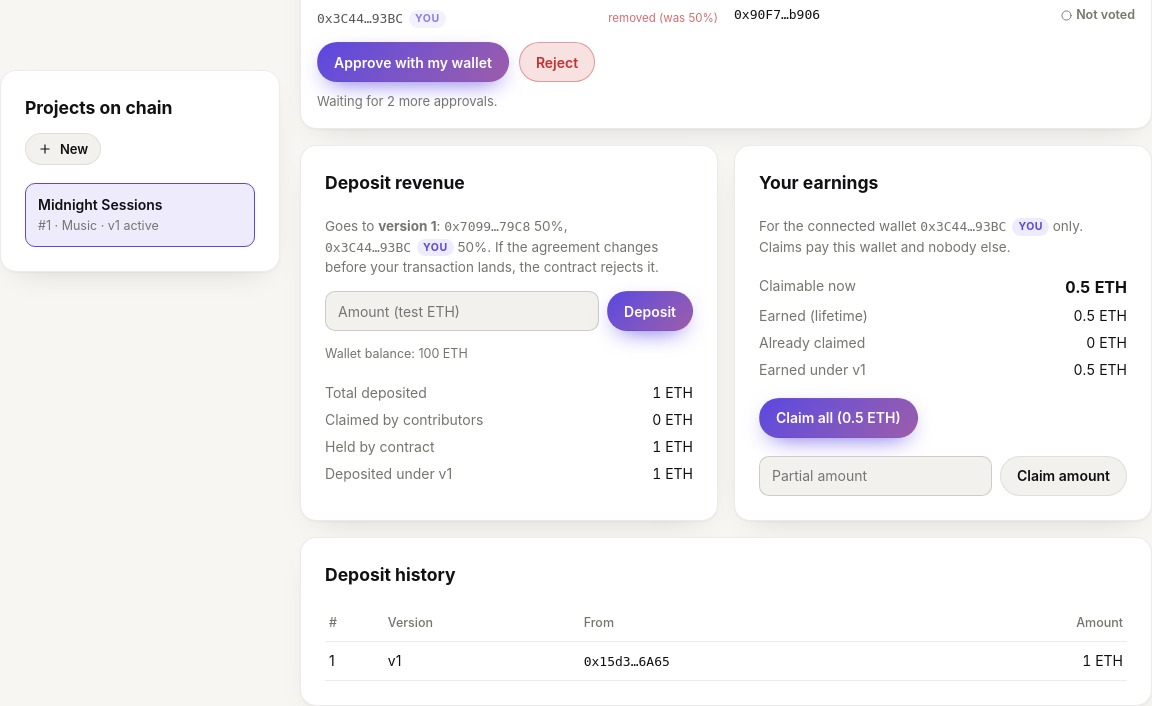
Test: live dashboard: revenue › blocks a partial claim above the claimable balance
This screenshot has width=1152, height=706.
(page scrolled)
Type "0.6" into the field named "partial claim amount" at point(875, 476), box x1=759 y1=456 x2=992 y2=496
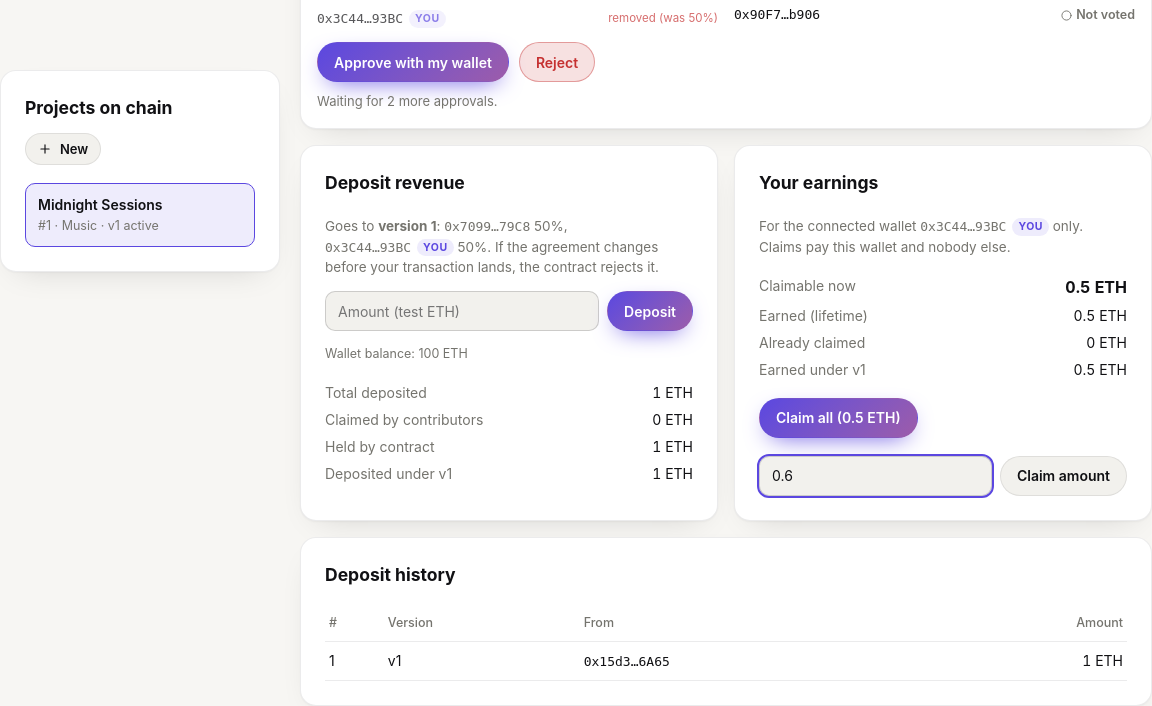
Click the button "Claim amount" at point(1063, 476), box x1=1000 y1=456 x2=1127 y2=496
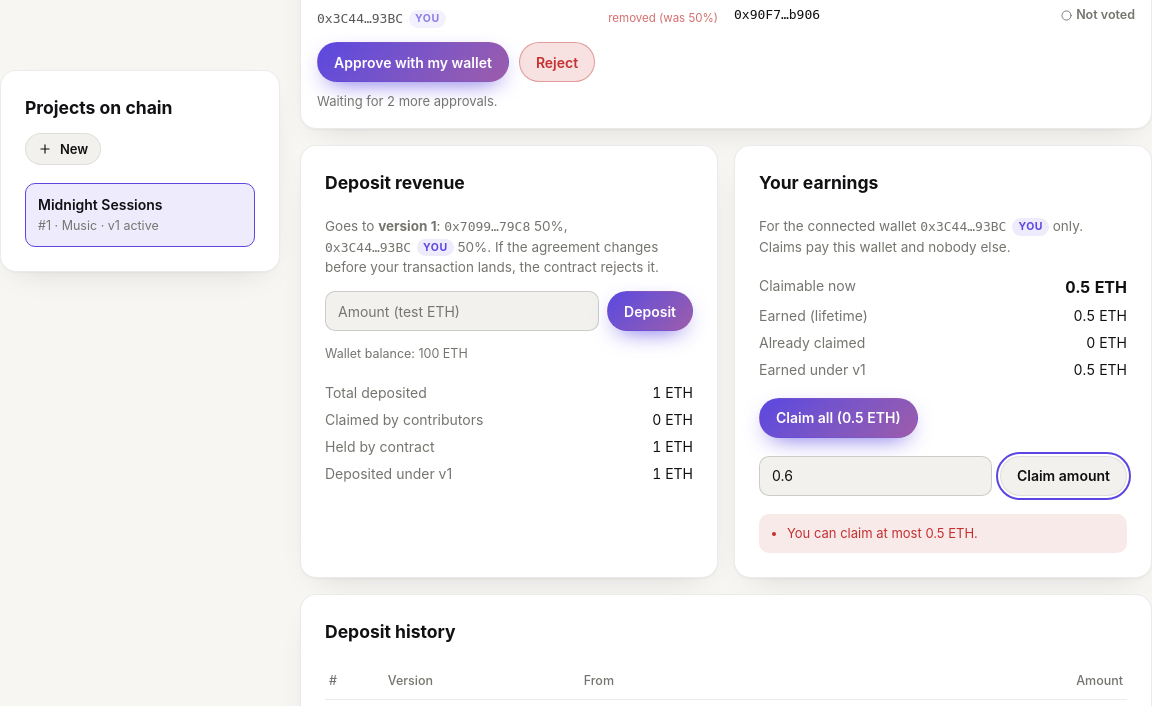
Expected: the list item "You can claim at most 0.5 ETH." is shown, x1=787 y1=525 x2=978 y2=541
